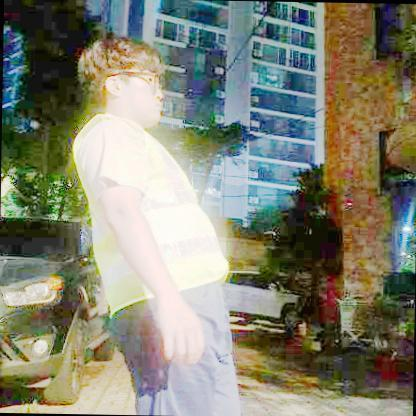no-helmet: (80, 33, 168, 109)
vest: (68, 110, 232, 321)
